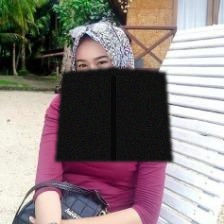Cadar_Niqab: (54, 20, 172, 161)
